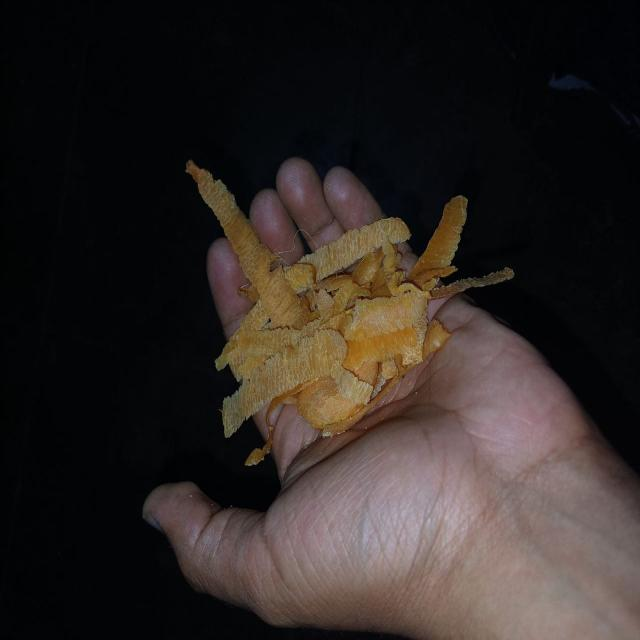organic: (184, 161, 514, 467)
